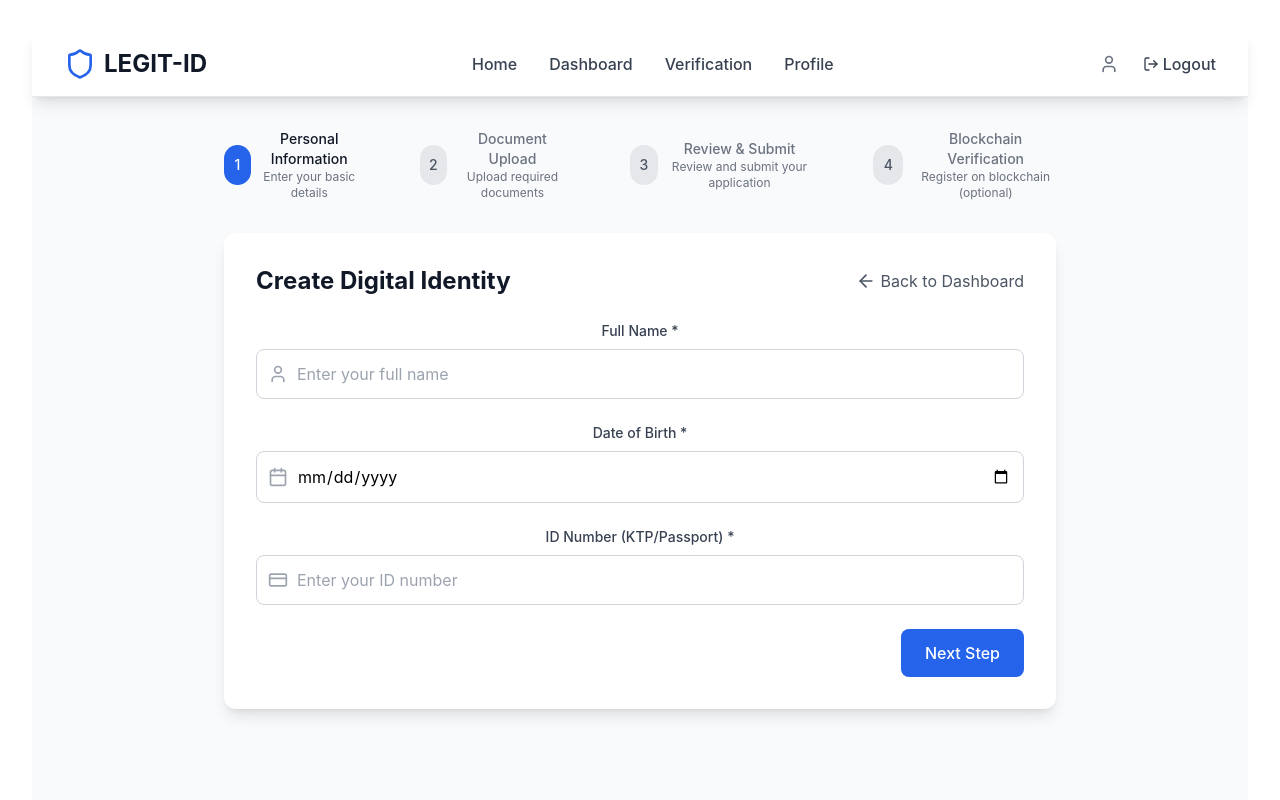
Test case: IdentityCreatePage › proceeds to step 2 when step 1 is valid
The width and height of the screenshot is (1280, 800).
Fill step 1 fields
In the field labelled "Full Name *": (640, 374) [256,349,1024,399], type "John Doe"
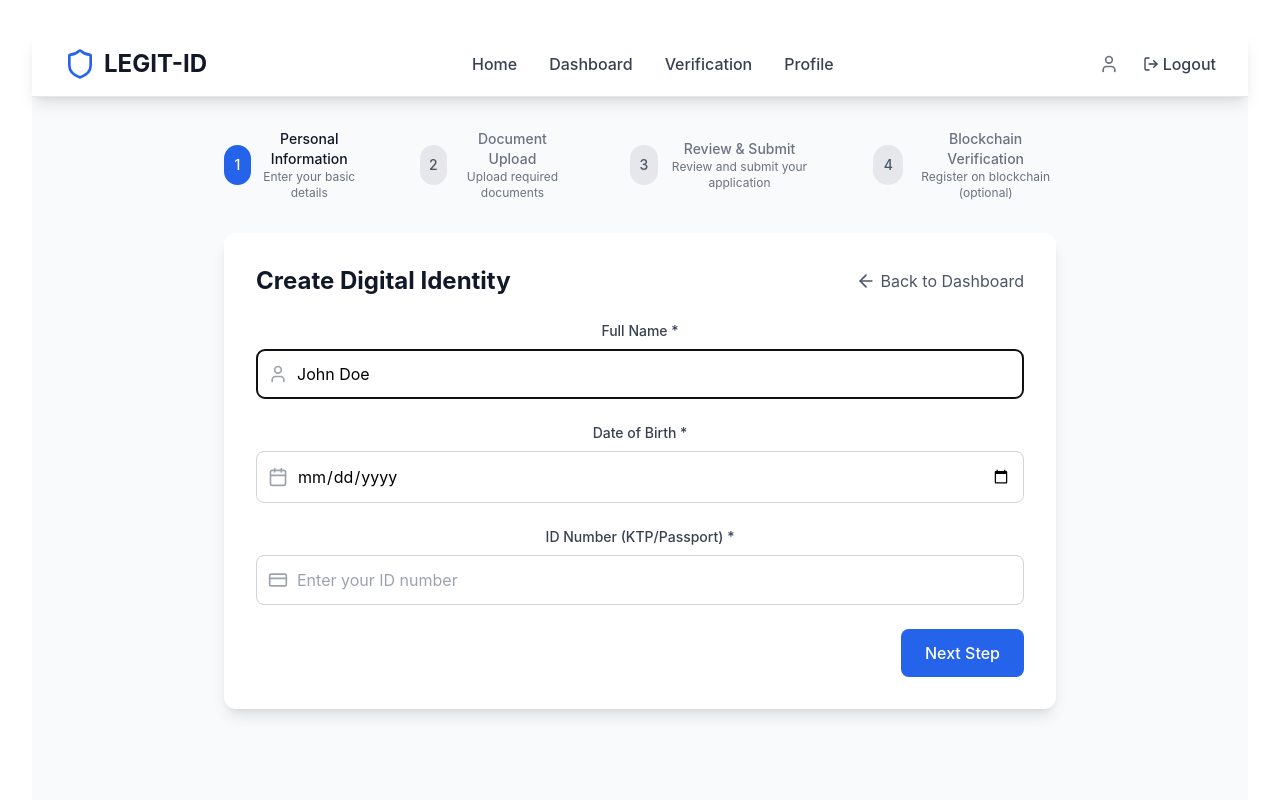
In the date field labelled "Date of Birth *": (640, 477) [256,451,1024,503], type "1990-01-01"
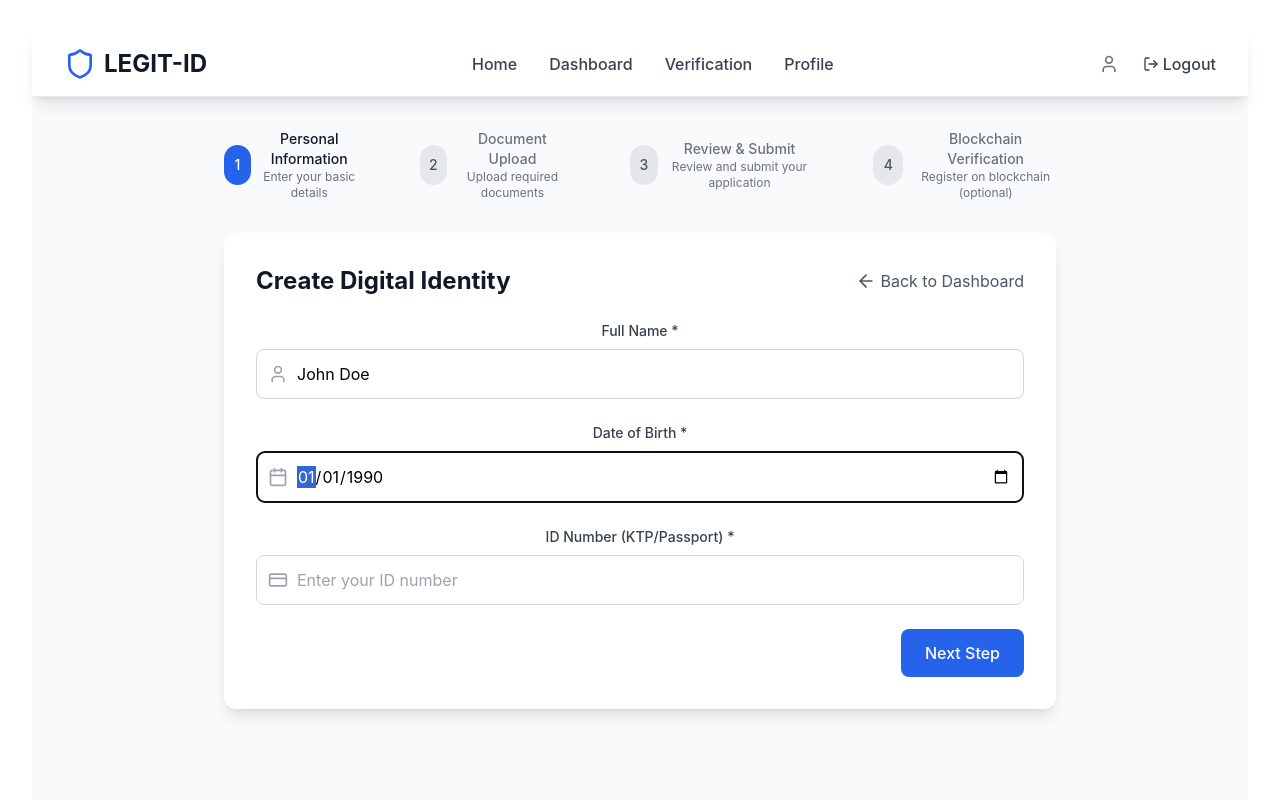
In the field labelled "ID Number (KTP/Passport) *": (640, 580) [256,555,1024,605], type "1234567890"
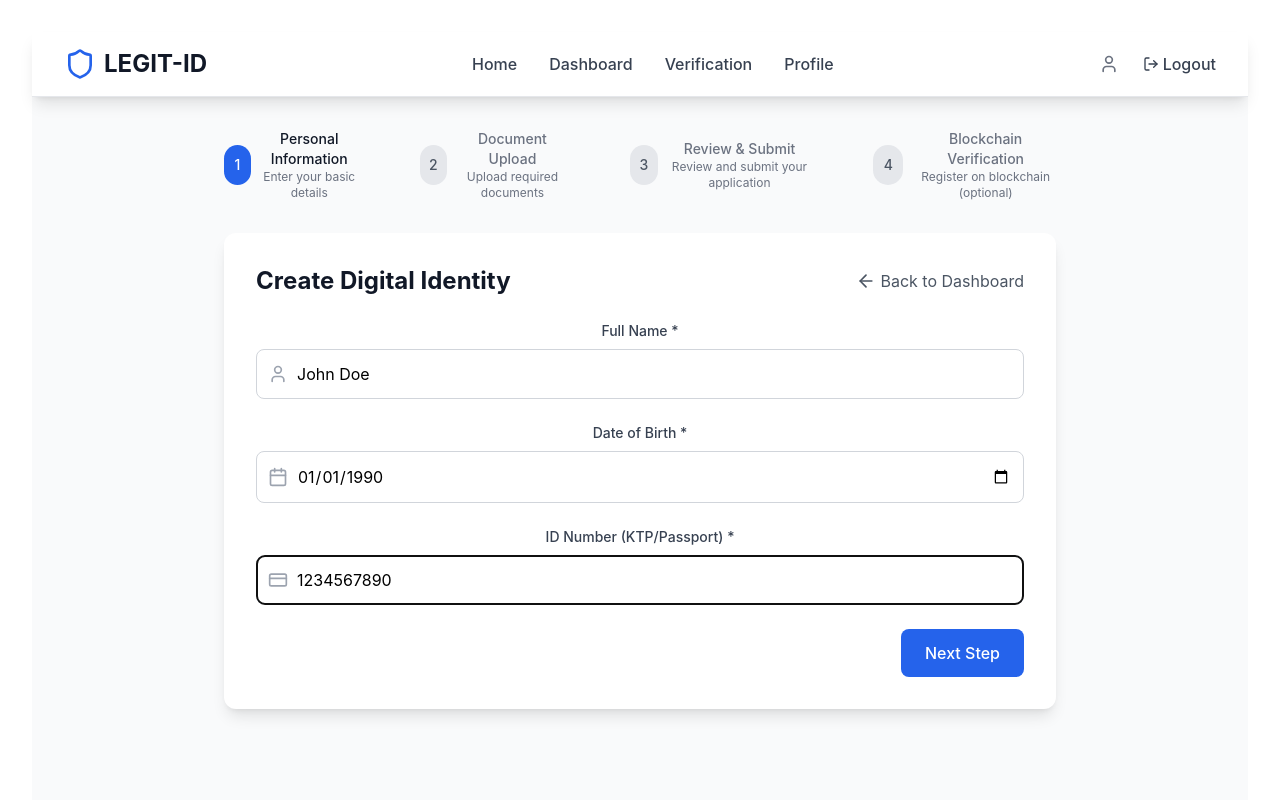
Click the button "Next Step": (962, 653) [901,629,1024,677]
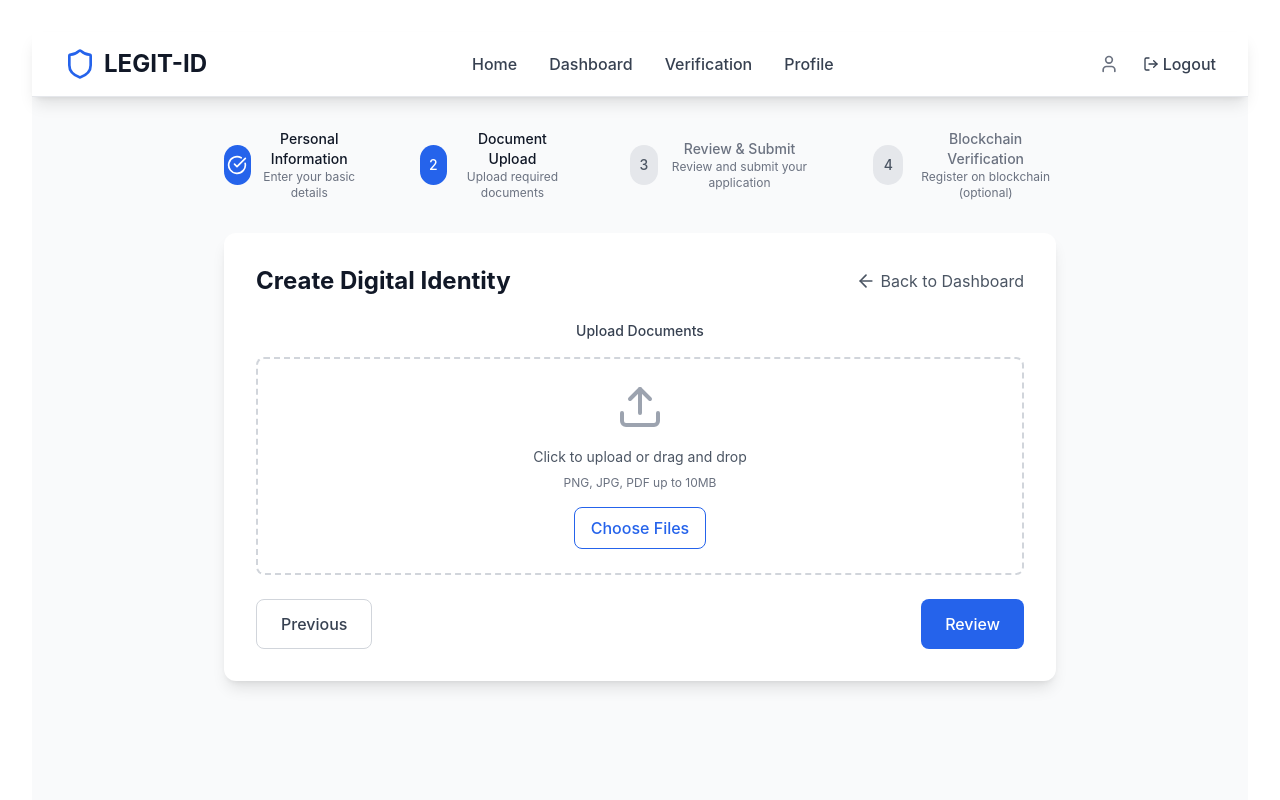
expect the text "Upload Documents" is shown: met, box [576,322,704,339]
expect the text "Click to upload or drag and drop" is shown: met, box [533,448,747,465]
